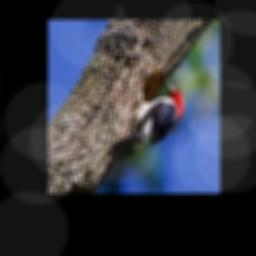Woodpecker: (110, 77, 185, 168)
